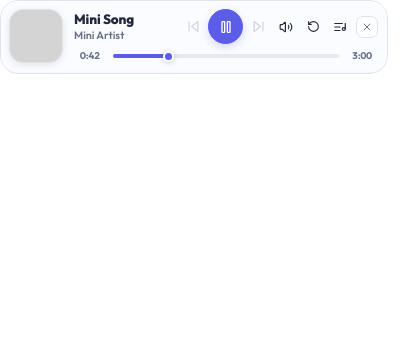
Test: MiniPlayerApp › keeps the queue visible when a live older main process omits queueOpen from its state
This screenshot has width=405, height=341.
Click the button named "打开播放队列".
click(340, 26)  # box [329,16,351,38]
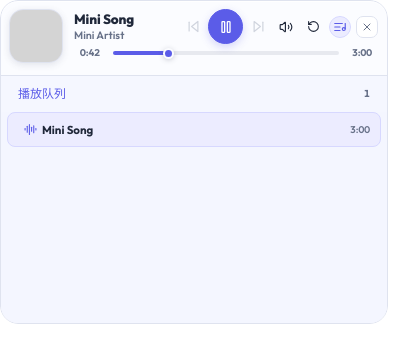
Expected: the element "播放队列" is shown
